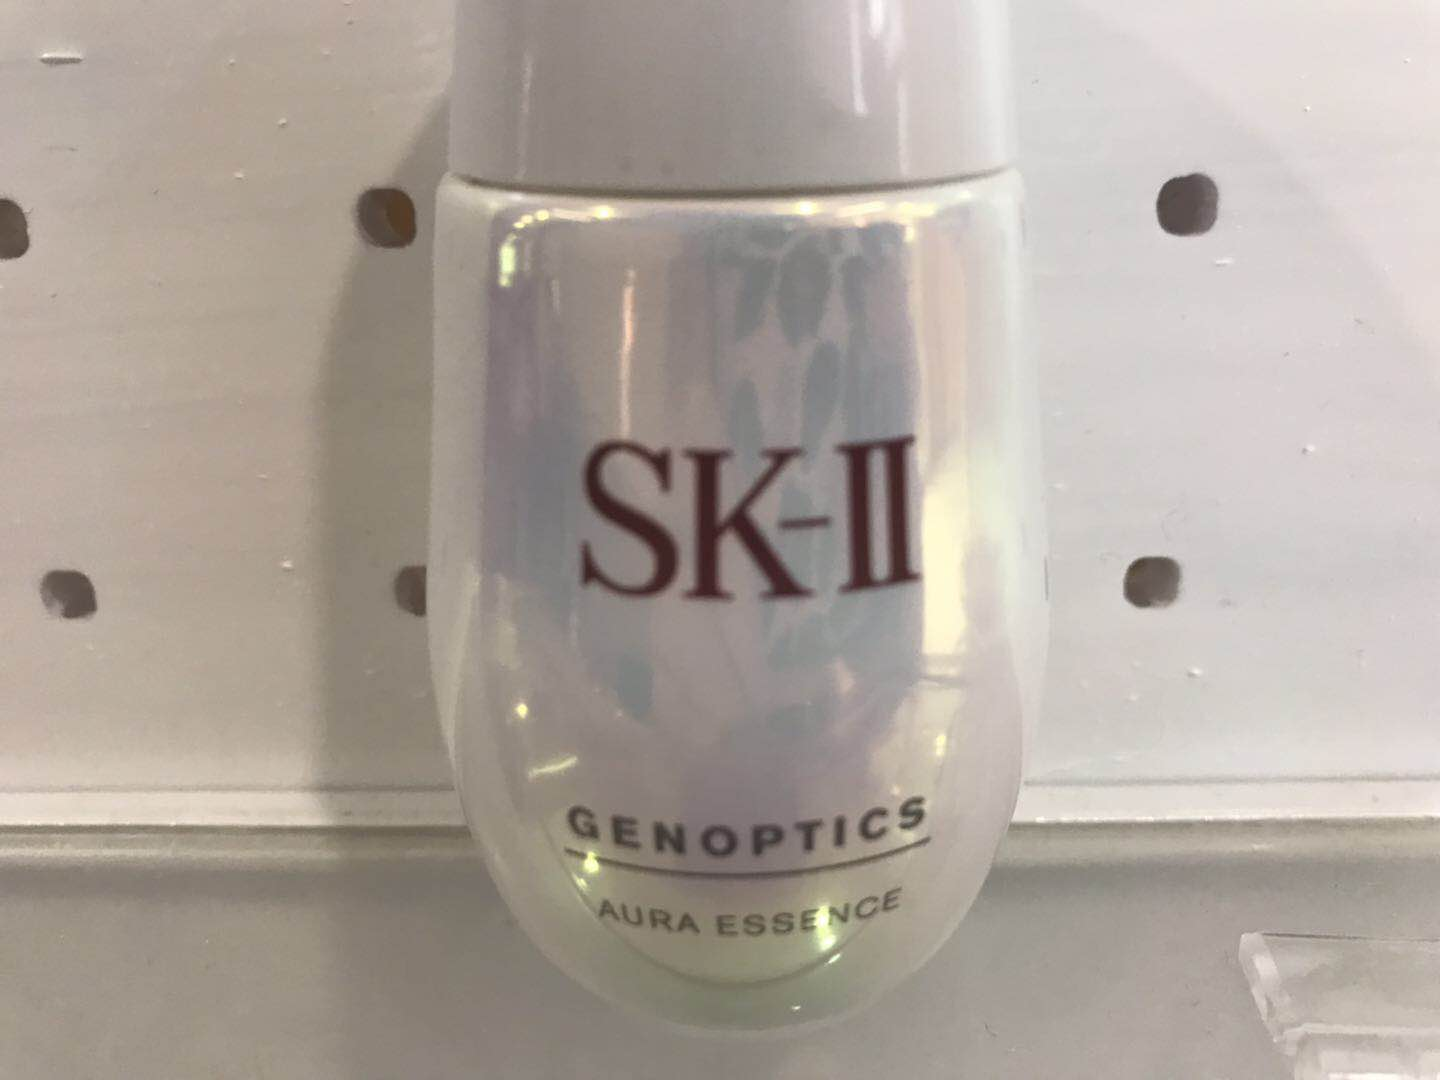sk2: (400, 5, 1086, 1064)
